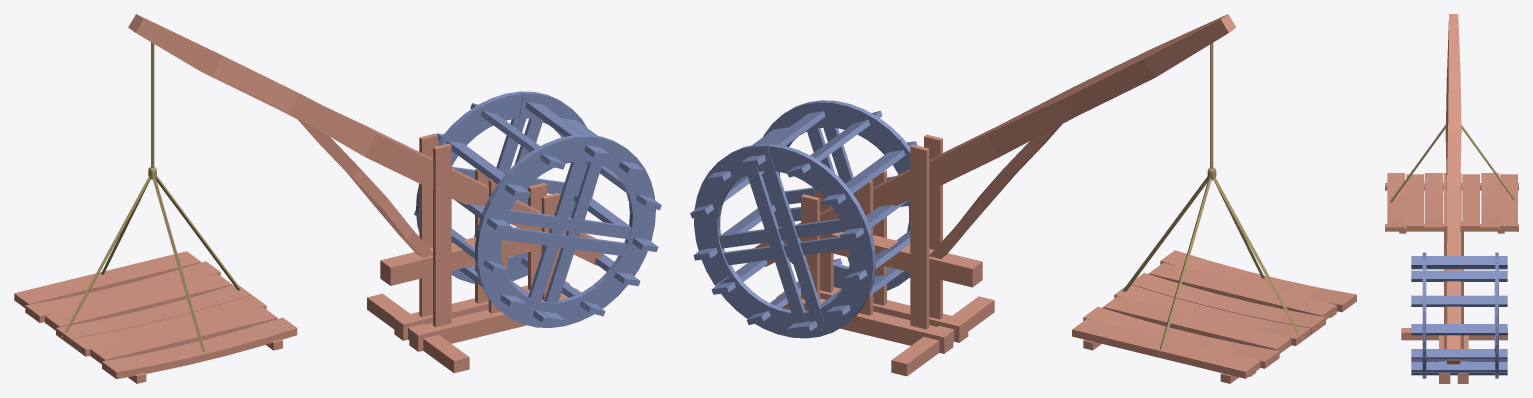
File: Crane.fbx
The picture shows the model from 3 angles, left to right: view 1: azimuth 30°, elevation 25°; view 2: azimuth 150°, elevation 25°; view 3: azimuth 270°, elevation 25°; orthographic projection. The views are drawn at different scales.
Visible parts, largest first — view 1: Crane, Platform, Connect_Rope; view 2: Crane, Platform, Connect_Rope; view 3: Crane, Platform, Connect_Rope.
Part boxes in pixels (x1,y1,x2,y2): Crane: [128, 14, 661, 373]; Platform: [14, 251, 297, 383]; Connect_Rope: [61, 167, 240, 352]; Crane: [690, 14, 1236, 376]; Platform: [1072, 250, 1356, 383]; Connect_Rope: [1122, 167, 1303, 355]; Crane: [1401, 14, 1507, 383]; Platform: [1385, 173, 1518, 233]; Connect_Rope: [1389, 124, 1515, 202].
Bounding box in the file's own units: 872 × 573 × 289.
